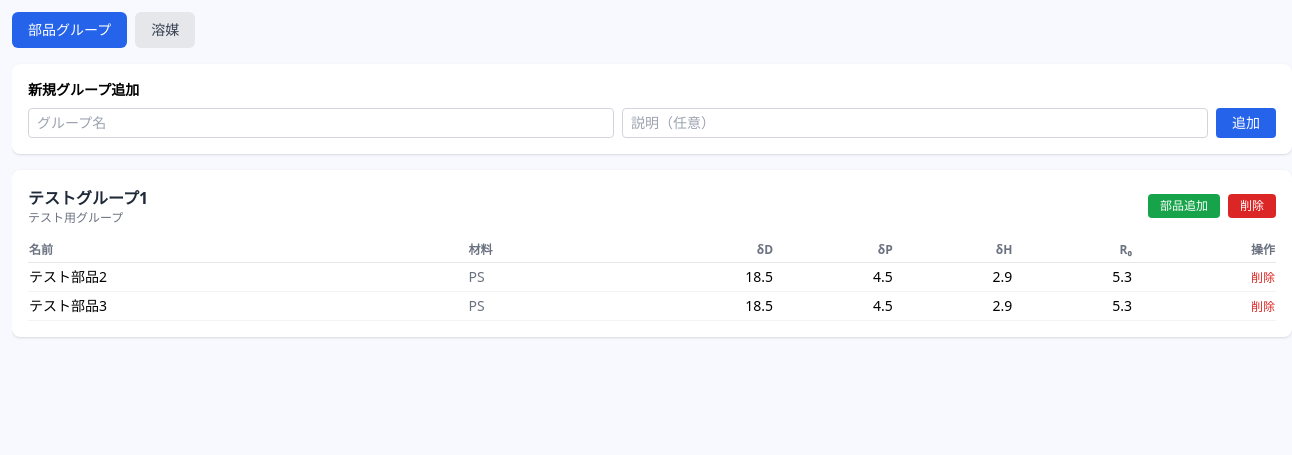
Test: DatabaseEditor › 部品グループ操作 › 部品追加ボタンでフォーム表示
The width and height of the screenshot is (1292, 455).
Click the button "部品追加" at (1184, 206), box 1148,194 -> 1220,218
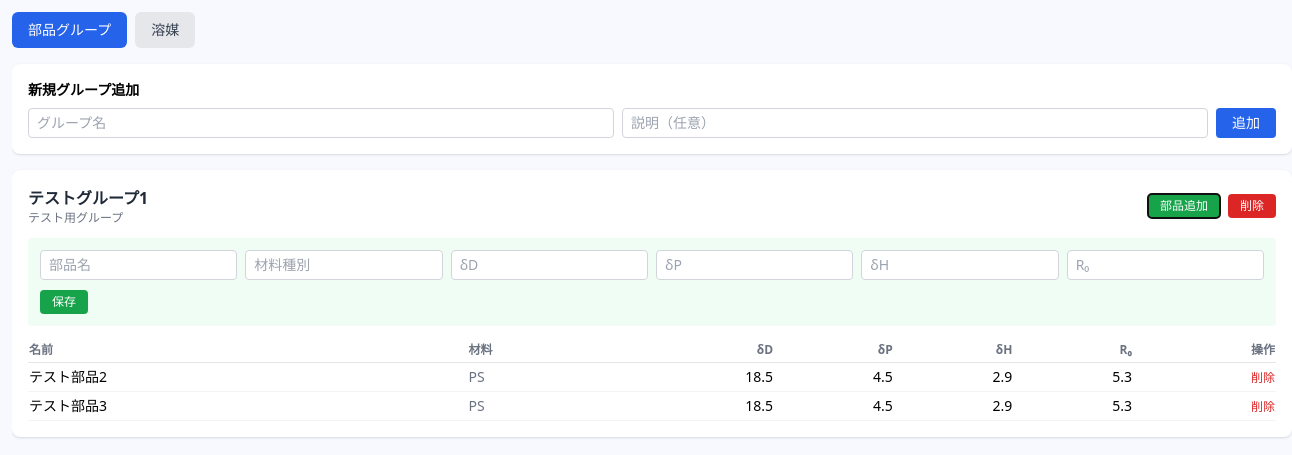
Check: the field with placeholder "部品名" is shown, box 40,250 -> 237,280
Check: the number field with placeholder "δD" is shown, box 451,250 -> 648,280
Check: the number field with placeholder "R₀" is shown, box 1067,250 -> 1264,280
